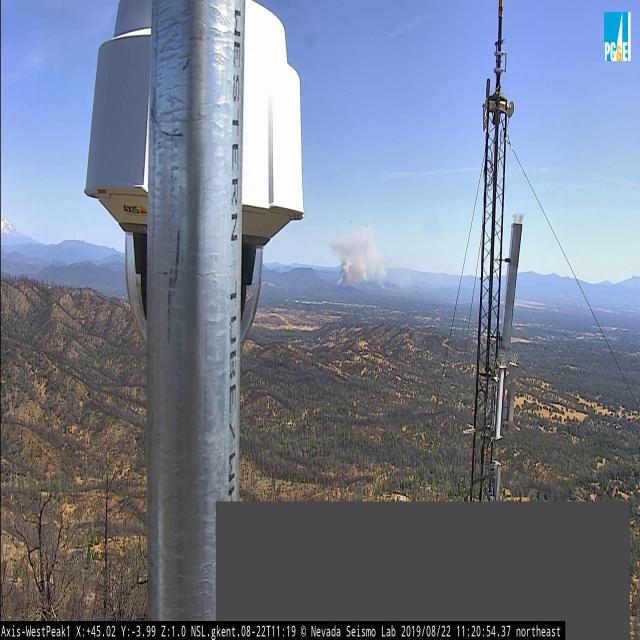smoke: (329, 216, 395, 290)
